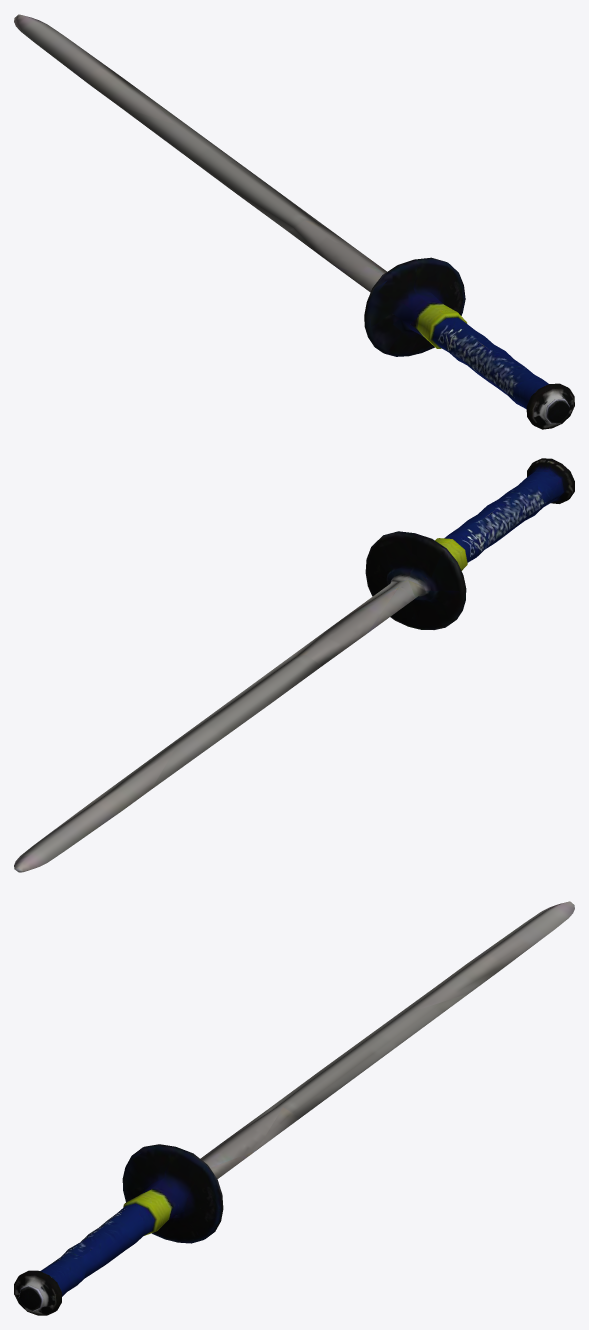
The model's file is m_arming_sword.fbx.
The picture shows the model from 3 angles, top to bottom: view 1: azimuth 30°, elevation 25°; view 2: azimuth 150°, elevation 25°; view 3: azimuth 330°, elevation 25°; orthographic projection.
Visible parts, largest first — view 1: tripo_node_42b77ec7-6755-46dc-ab25-219b920ea9a0; view 2: tripo_node_42b77ec7-6755-46dc-ab25-219b920ea9a0; view 3: tripo_node_42b77ec7-6755-46dc-ab25-219b920ea9a0.
Boxes of the visible parts, bbox=[...] form: tripo_node_42b77ec7-6755-46dc-ab25-219b920ea9a0: bbox=[14, 14, 574, 429]; tripo_node_42b77ec7-6755-46dc-ab25-219b920ea9a0: bbox=[14, 458, 574, 872]; tripo_node_42b77ec7-6755-46dc-ab25-219b920ea9a0: bbox=[14, 901, 574, 1315].
Size of the model in its own units: 0.134 by 0.1204 by 1.26.
1 material, 1 textured.
